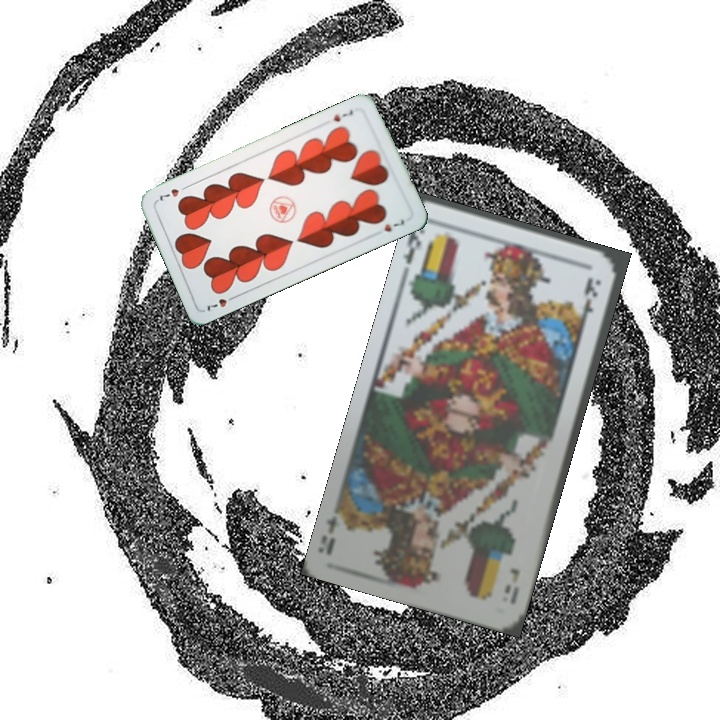EK: (400, 221, 424, 267), (500, 564, 522, 607)
H7: (203, 291, 240, 313), (329, 106, 356, 124)
